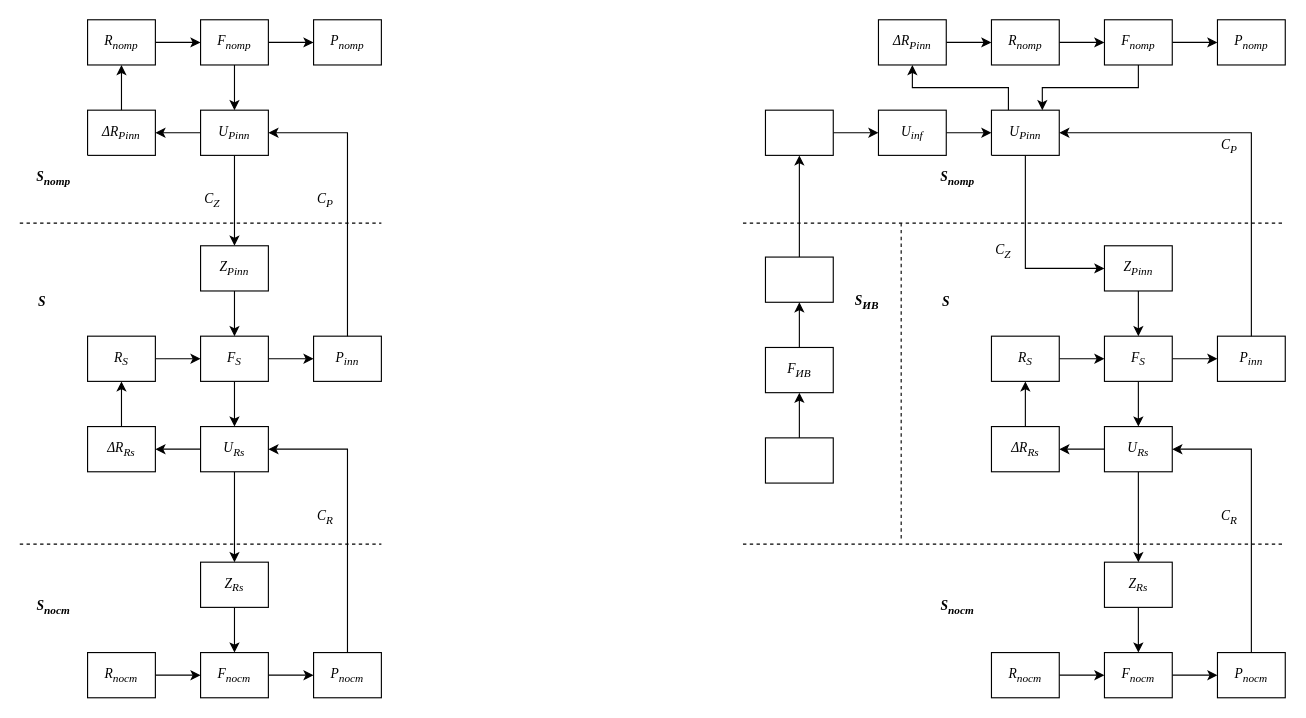
Some shapes in this 1306 by 718 pixel diagram are drawn without their labels. Each missing label, with the centre of its shape:
"P ИВ" belongs at (798,279).
"R ИВ" belongs at (798,460).
"W U" belongs at (798,132).
